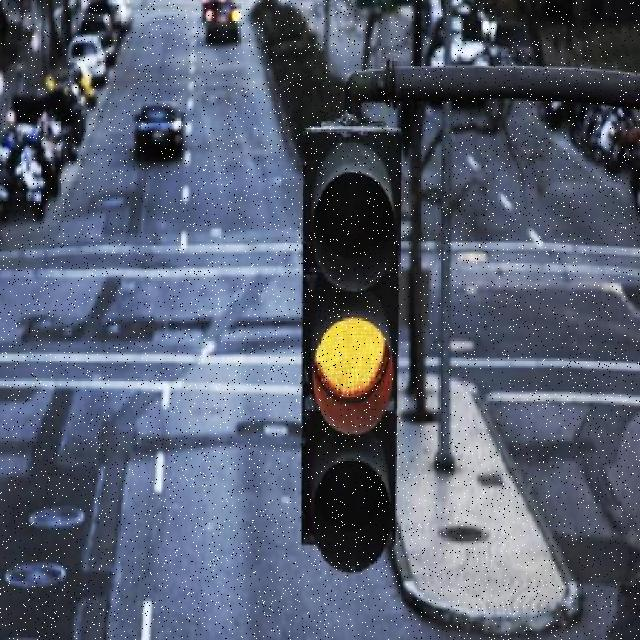yellow-light: (284, 129, 441, 596)
